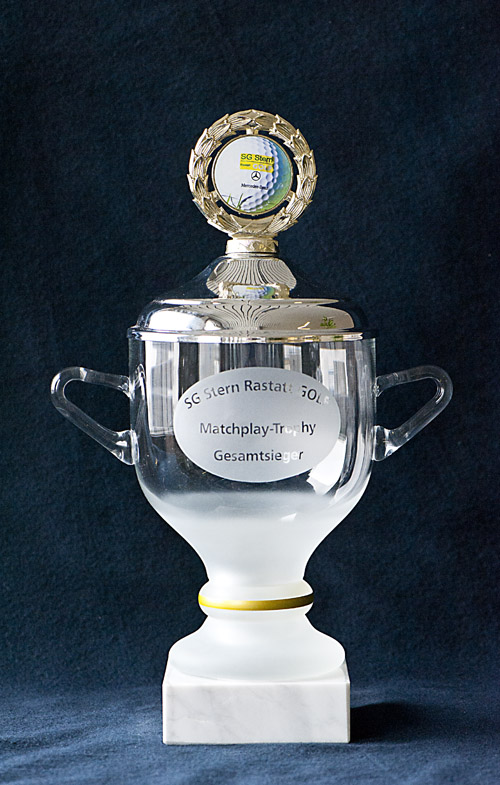trophy: (45, 103, 454, 749)
